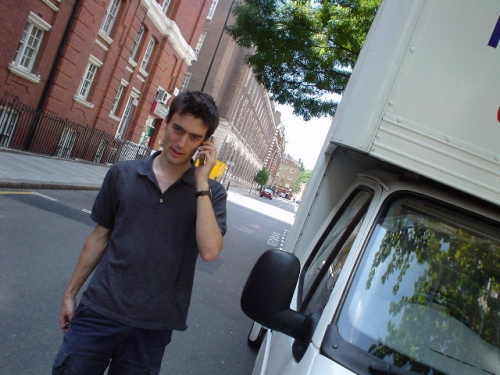phone: (187, 134, 212, 173)
talk: (168, 120, 220, 185)
